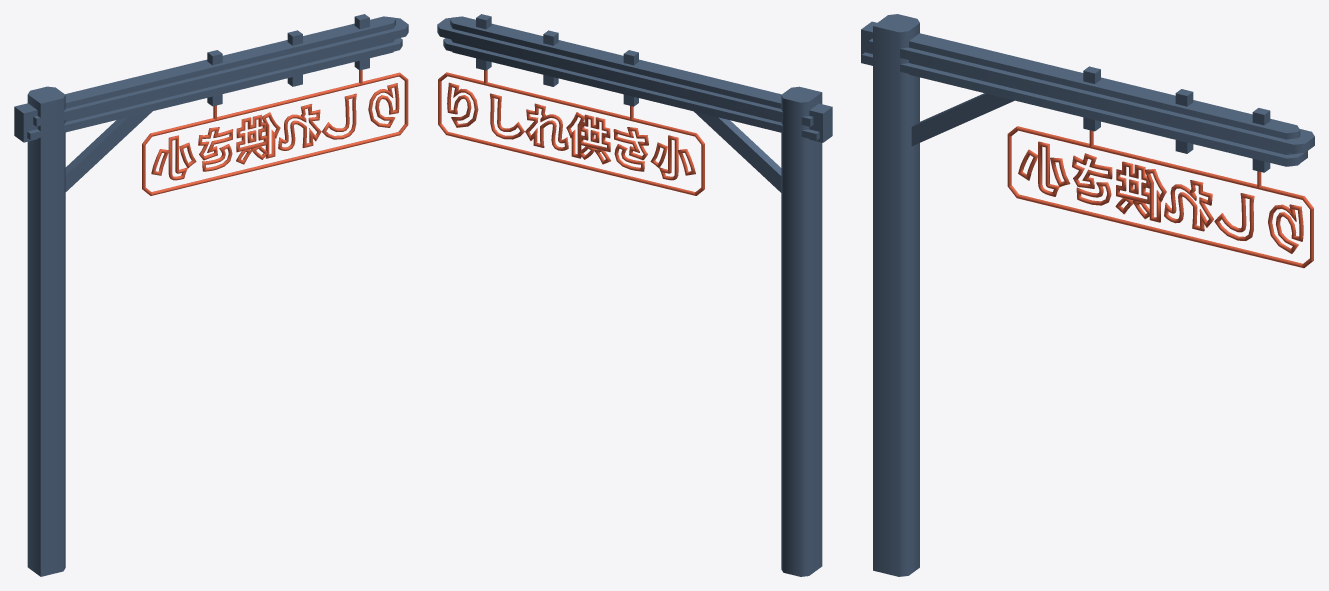
Rendered from NeonSign.fbx.
The picture shows the model from 3 angles, left to right: view 1: azimuth 30°, elevation 25°; view 2: azimuth 150°, elevation 25°; view 3: azimuth 330°, elevation 25°; orthographic projection. The views are drawn at different scales.
Visible parts, largest first — view 1: NeonSign, Text; view 2: NeonSign, Text; view 3: NeonSign, Text.
Boxes of the visible parts, x1,y1,x2,y2 form: NeonSign: (14,14,408,576); Text: (142,70,408,195); NeonSign: (437,14,832,576); Text: (438,70,704,195); NeonSign: (861,14,1314,576); Text: (1007,126,1313,268).
Bounding box in the file's own units: 4.81 × 5.59 × 0.3444.
